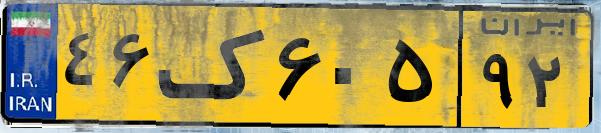0: (330, 28, 385, 110)
2: (525, 38, 570, 115)
4: (57, 26, 110, 100)
5: (385, 28, 445, 110)
6: (270, 28, 330, 110), (110, 28, 158, 98)
9: (475, 38, 525, 113)
ک: (158, 12, 270, 120)
